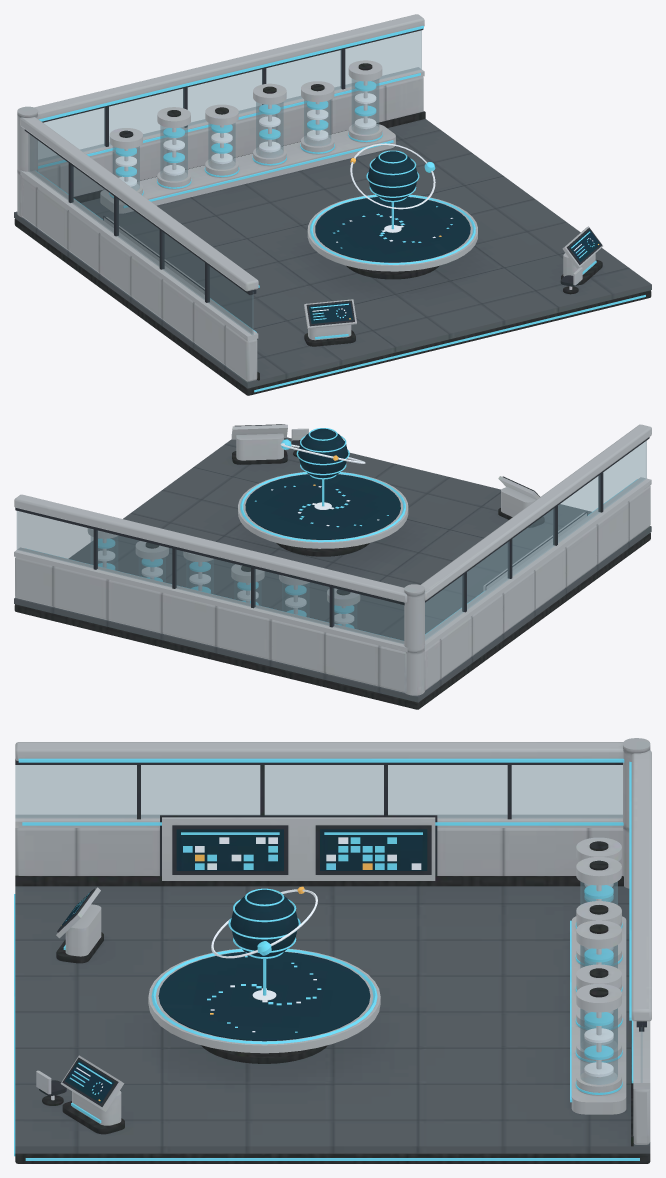
File: cartography_archive.glb
The picture shows the model from 3 angles, top to bottom: view 1: azimuth 30°, elevation 25°; view 2: azimuth 150°, elevation 25°; view 3: azimuth 270°, elevation 25°; orthographic projection. The views are drawn at different scales.
Parts seen in each view (by area): view 1: te_cartography_archive, move_sensor; view 2: te_cartography_archive; view 3: te_cartography_archive, move_sensor.
Part boxes in pixels (x1,y1,x2,y2): te_cartography_archive: (14,14,651,395); move_sensor: (350,143,435,209); te_cartography_archive: (14,424,651,709); te_cartography_archive: (14,738,651,1163); move_sensor: (211,886,317,958).
Size of the model in its own units: 1.87 by 0.52 by 1.87.
2 materials, 1 textured.
